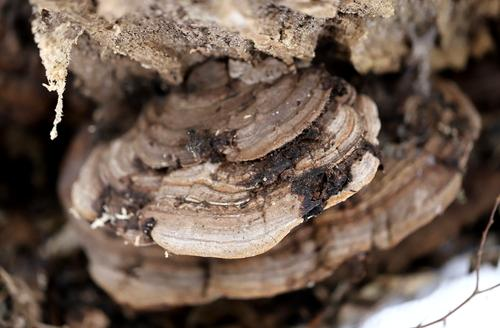Ganoderma - Fruit Body: (62, 64, 484, 301)
